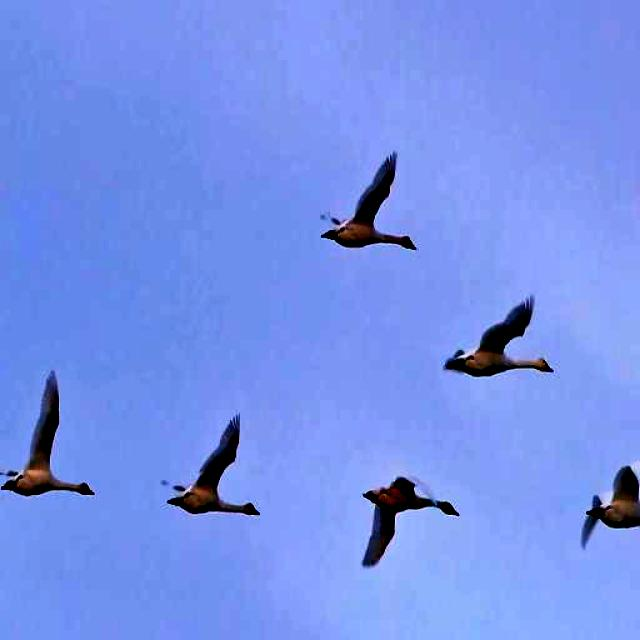airplane: (438, 270, 565, 389), (152, 412, 264, 535), (339, 475, 468, 578), (312, 142, 420, 265), (0, 378, 102, 502), (572, 440, 640, 569)
